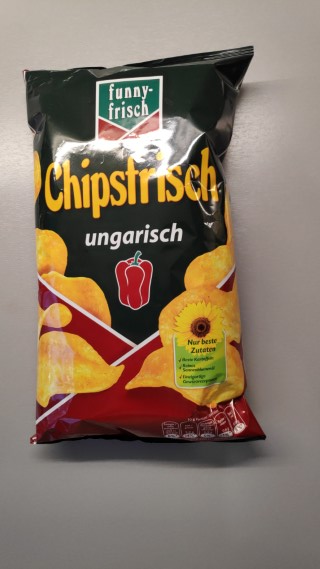chipsfrisch: (21, 44, 262, 443)
